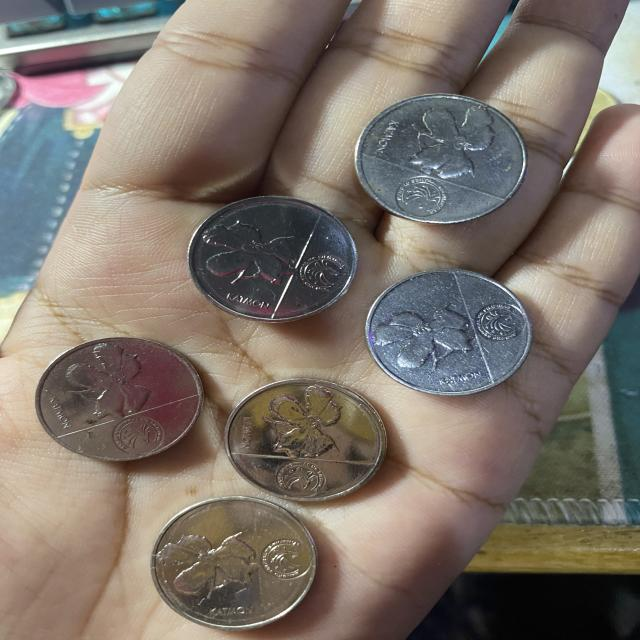25Cent_New_Back: (412, 97, 507, 180), (372, 306, 479, 376), (156, 524, 252, 602), (204, 216, 289, 298), (68, 343, 162, 412), (263, 382, 347, 453)
